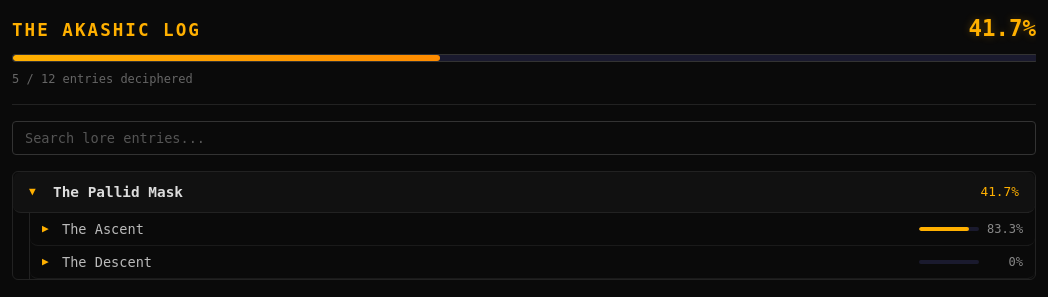
it: AkashicLog Component › shows no results message for unmatched search
Expected: the text "The Pallid Mask" is shown, [53,184,183,200]
Step 1. Type "zzzznotfound" into the field with placeholder "Search lore entries..." → (524, 138), box [12,121,1036,155]
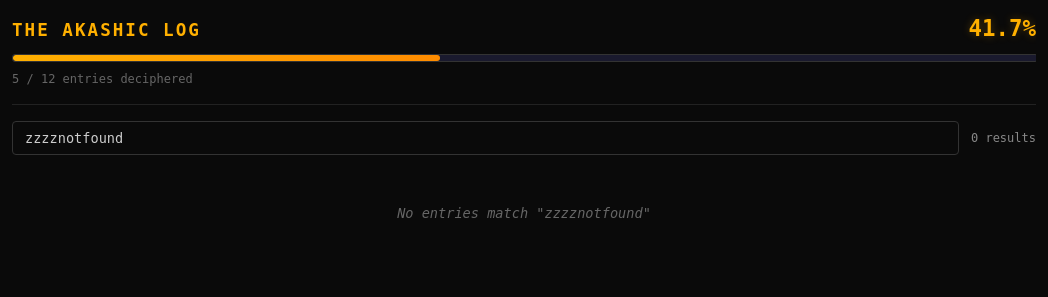
Expected: the text "No entries match \"zzzznotfound\"" is shown, [397,205,651,221]
